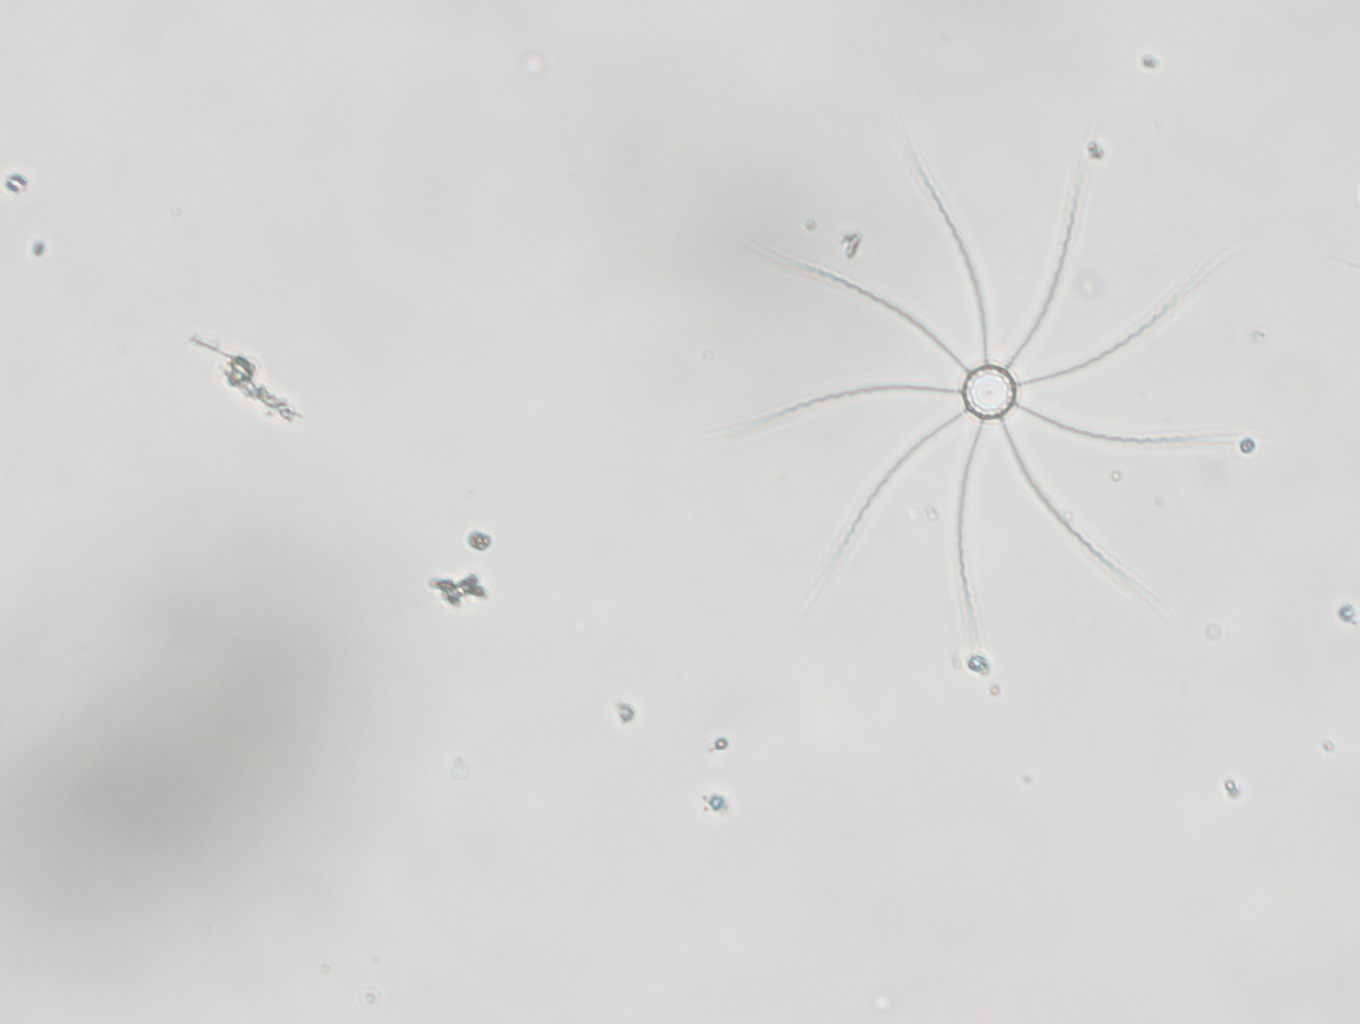bacteriastrum: (738, 130, 1241, 645)
